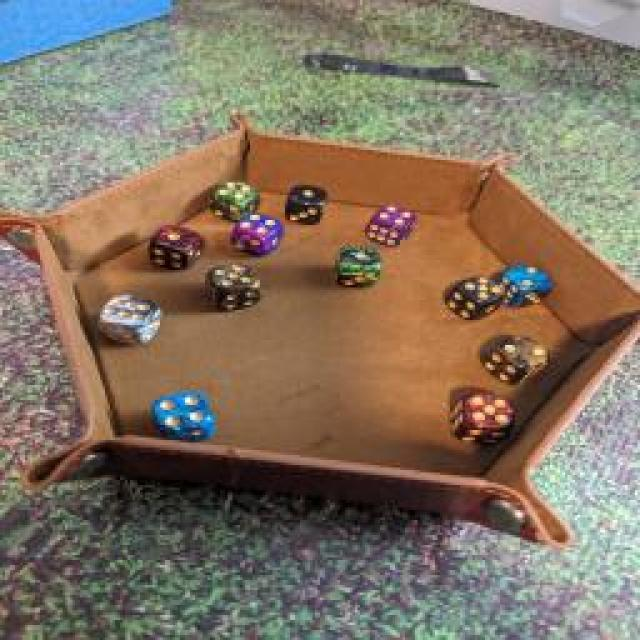dice_1: (330, 240, 388, 292), (146, 224, 209, 271), (276, 181, 329, 224)
dice_2: (476, 330, 556, 385), (491, 260, 559, 318)
dice_4: (149, 390, 216, 445), (358, 201, 420, 249), (233, 206, 285, 259), (208, 178, 262, 222)
dice_5: (442, 390, 518, 442), (203, 258, 265, 312), (441, 274, 501, 321)
dice_6: (89, 287, 169, 345)
